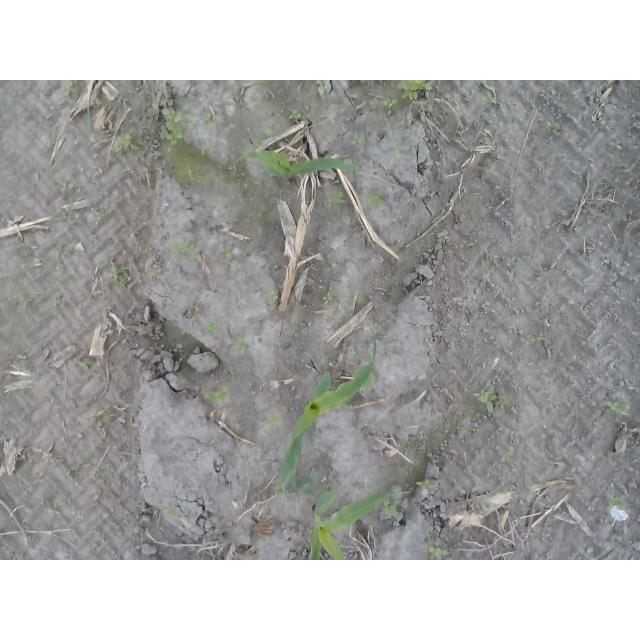Maize: (274, 331, 380, 489), (306, 488, 400, 560), (238, 148, 362, 180)
Weeds: (472, 382, 510, 417), (160, 107, 185, 153), (200, 383, 233, 407), (383, 136, 417, 159), (396, 80, 433, 101), (108, 133, 141, 155), (169, 239, 200, 261), (87, 408, 114, 427), (110, 264, 130, 289), (425, 541, 450, 560), (605, 487, 624, 512), (95, 465, 113, 488), (368, 191, 386, 209), (384, 497, 401, 516), (343, 296, 362, 313), (607, 400, 625, 417), (232, 337, 248, 356), (165, 505, 184, 520), (265, 409, 281, 426), (546, 120, 562, 137), (320, 289, 336, 305), (381, 97, 399, 111), (499, 448, 514, 464), (42, 451, 59, 465), (219, 247, 233, 263), (207, 320, 221, 336), (507, 256, 520, 273), (415, 480, 433, 492), (264, 291, 279, 305), (527, 335, 546, 346), (328, 192, 344, 205), (479, 95, 497, 106), (187, 169, 201, 183), (47, 501, 61, 515), (63, 80, 74, 96), (352, 135, 368, 146), (608, 141, 624, 152), (200, 112, 213, 125), (248, 135, 263, 146), (56, 239, 65, 257), (288, 109, 300, 122), (63, 212, 80, 221), (59, 183, 74, 193), (479, 256, 491, 268), (274, 485, 286, 497), (377, 168, 392, 177), (462, 239, 474, 250), (151, 266, 162, 278), (80, 359, 92, 370), (592, 423, 605, 433), (95, 208, 102, 225), (511, 233, 521, 242), (188, 117, 197, 127), (144, 166, 153, 176), (7, 552, 17, 561), (256, 447, 265, 457), (315, 80, 326, 88), (544, 431, 553, 440), (575, 224, 583, 234), (71, 511, 81, 519), (136, 224, 145, 232), (630, 458, 640, 465), (200, 146, 208, 154), (94, 373, 102, 380)
